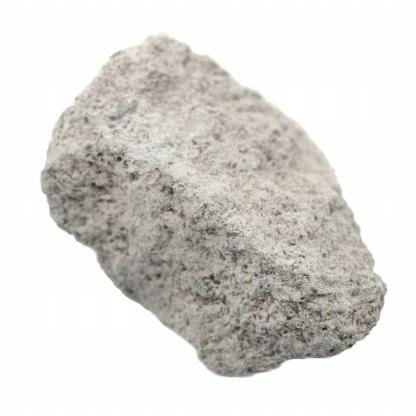Sedimentary_Limestone: (21, 39, 392, 388)
